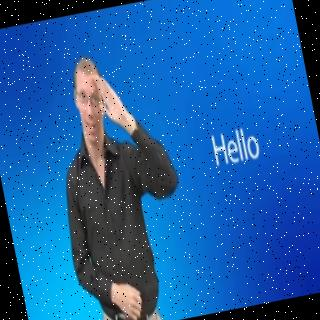Hello: (32, 37, 207, 320)
